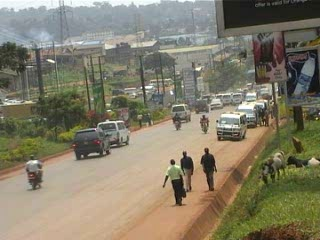Car: (69, 125, 112, 162), (209, 97, 225, 111)
Motorcycle: (23, 150, 45, 192), (197, 112, 212, 136), (172, 110, 181, 132)
